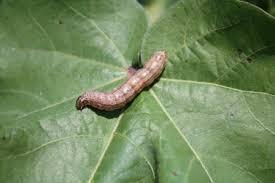fallarmy_worm: (72, 48, 178, 117)
